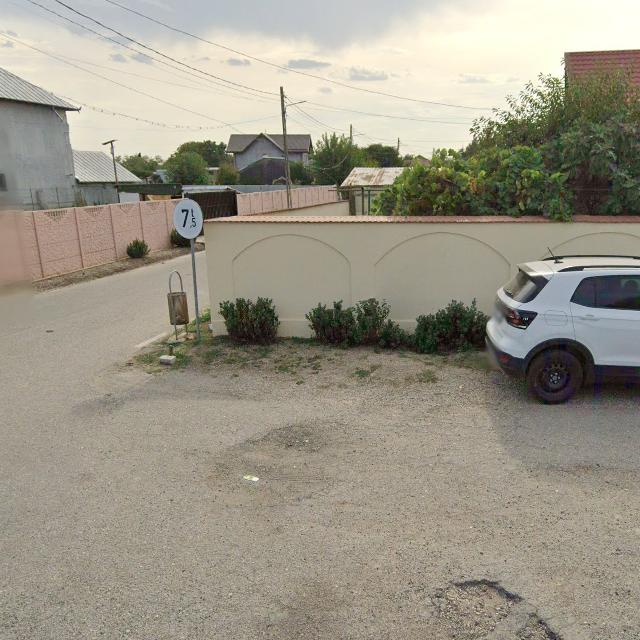forb_weight_over_7.5t: (172, 198, 204, 239)
